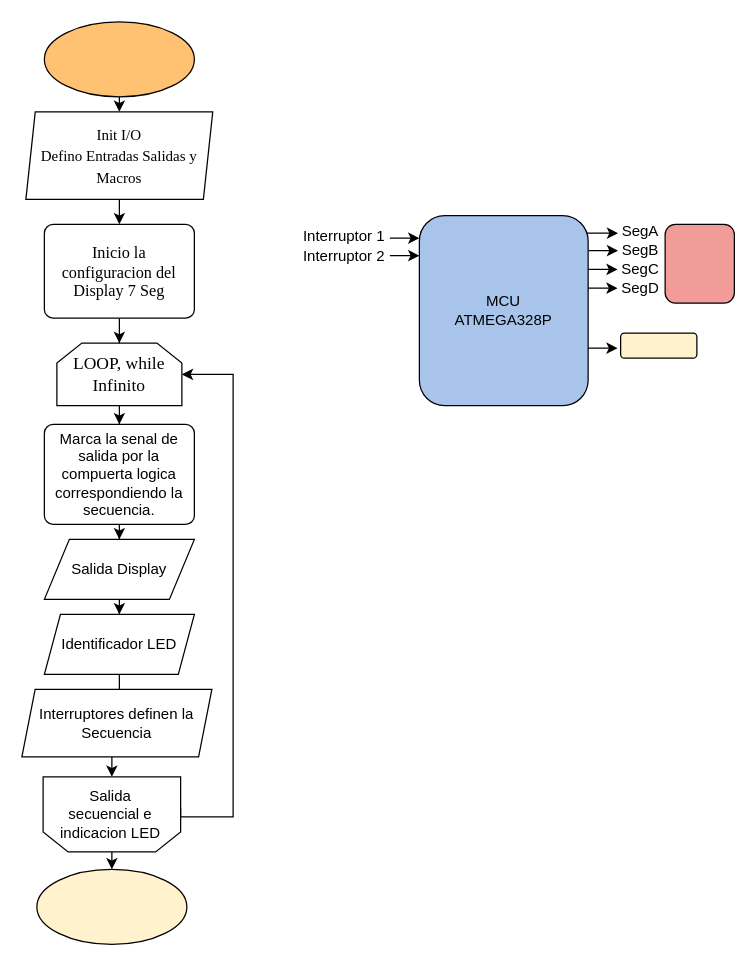
Some shapes in this 756 by 966 pixel diagram are drawn without their labels. The centre of each missing label's shape, as x and y in pixels:
DISPLAY 7SEG: point 699,263
Fin: point 111,906
Inicio: point 118,59
LED ID: point 658,345
